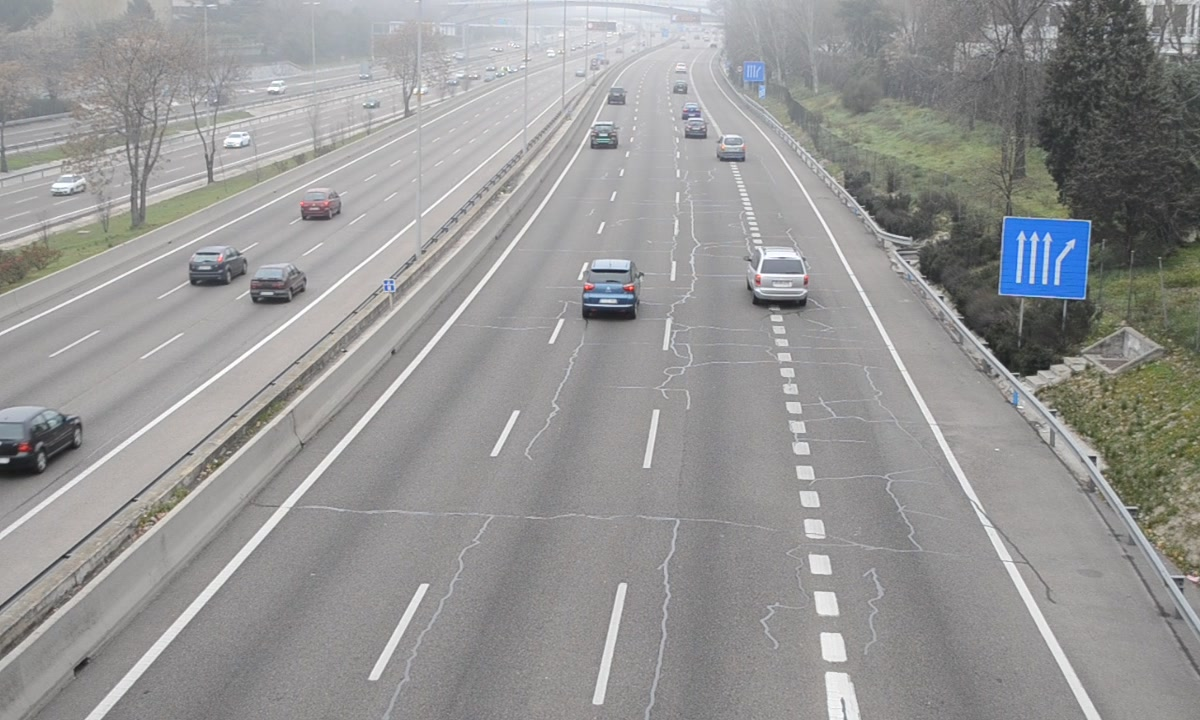car: (751, 245, 809, 304), (581, 261, 640, 314), (588, 120, 619, 149), (718, 133, 745, 161)
